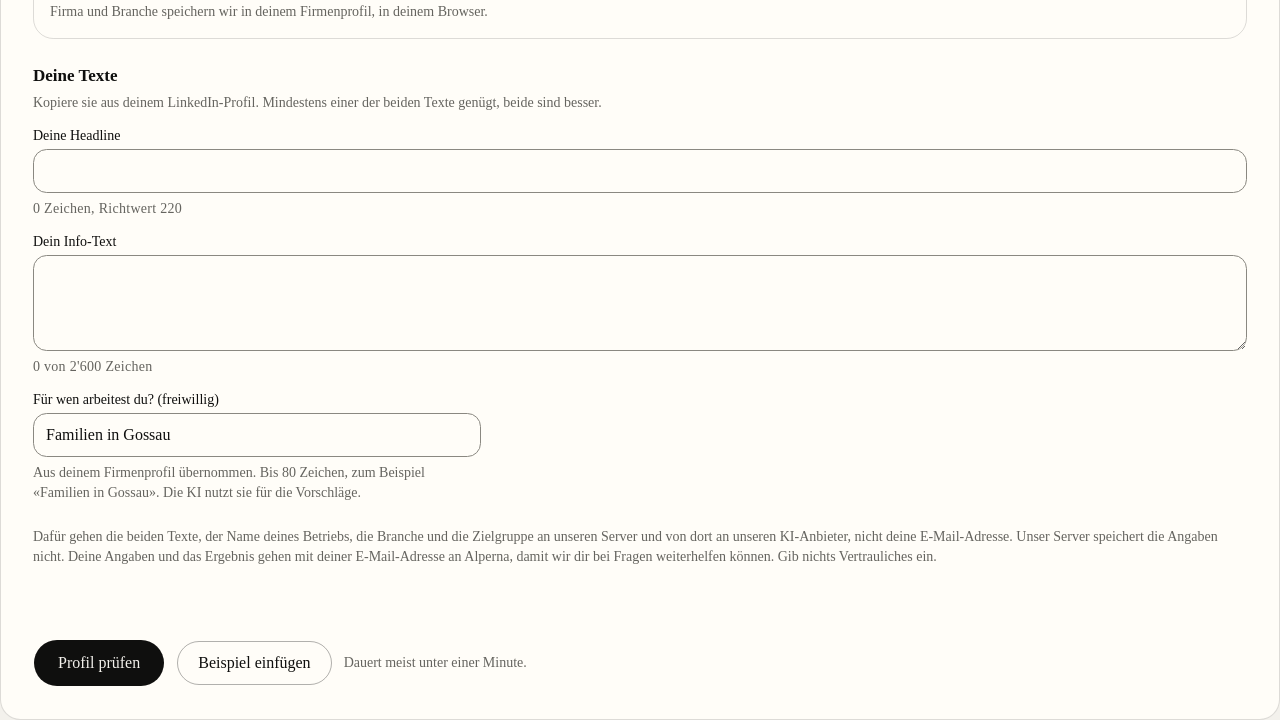
Test: LinkedIn-Profil im Browser › meldet leere Texte in einem role=alert und ruft den Server nicht auf
(page scrolled)
Step 1. Click the button "Profil prüfen" → (99, 663), box [33,639,165,687]
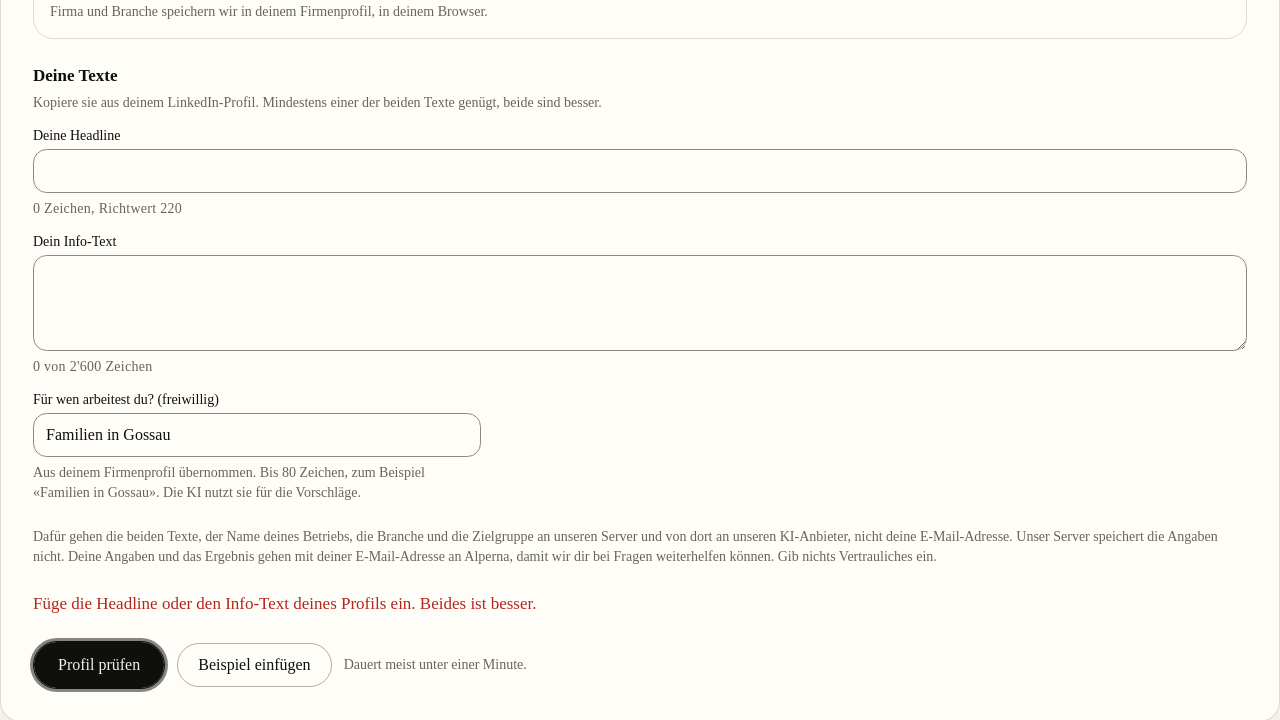
Now the message shows "Füge die Headline oder den Info-Text deines Profils ein.", box [33,594,536,613]
